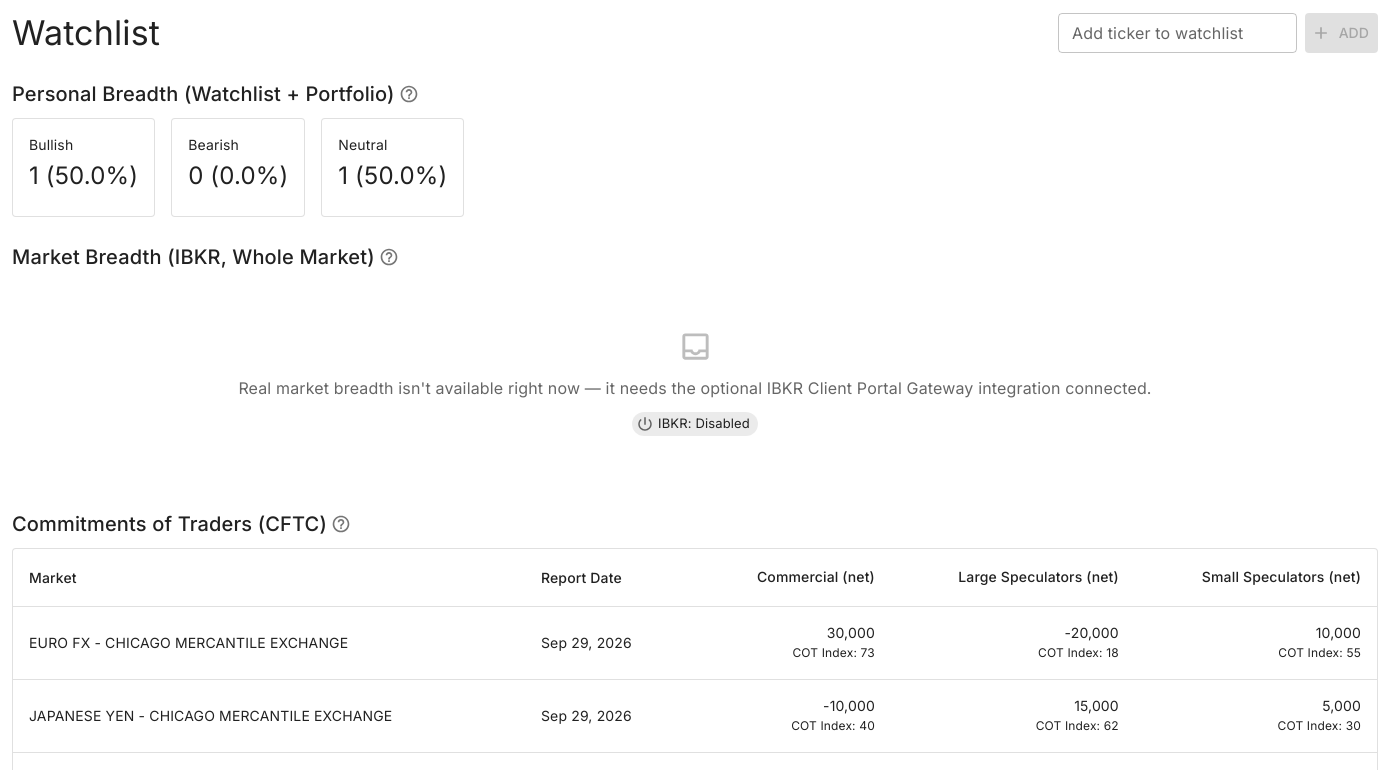
WatchlistPage › clears the skeleton and surfaces the error when the add POST fails, leaving no orphaned skeleton row
The image size is (1390, 770).
Type "TSLA" into the field labelled "Add ticker to watchlist" at (1178,33), box [1058,13,1298,53]
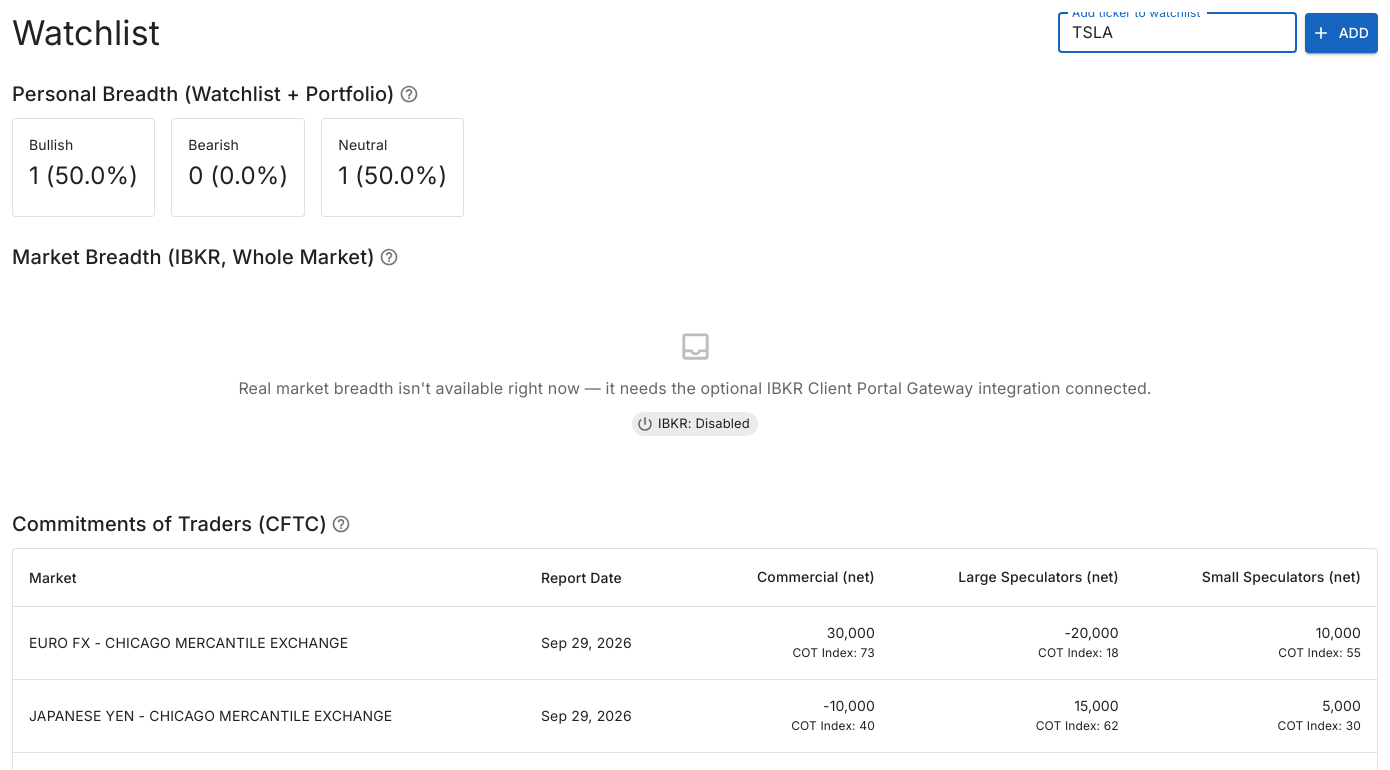
Click the button "Add" at (1342,33), box [1306,13,1378,53]
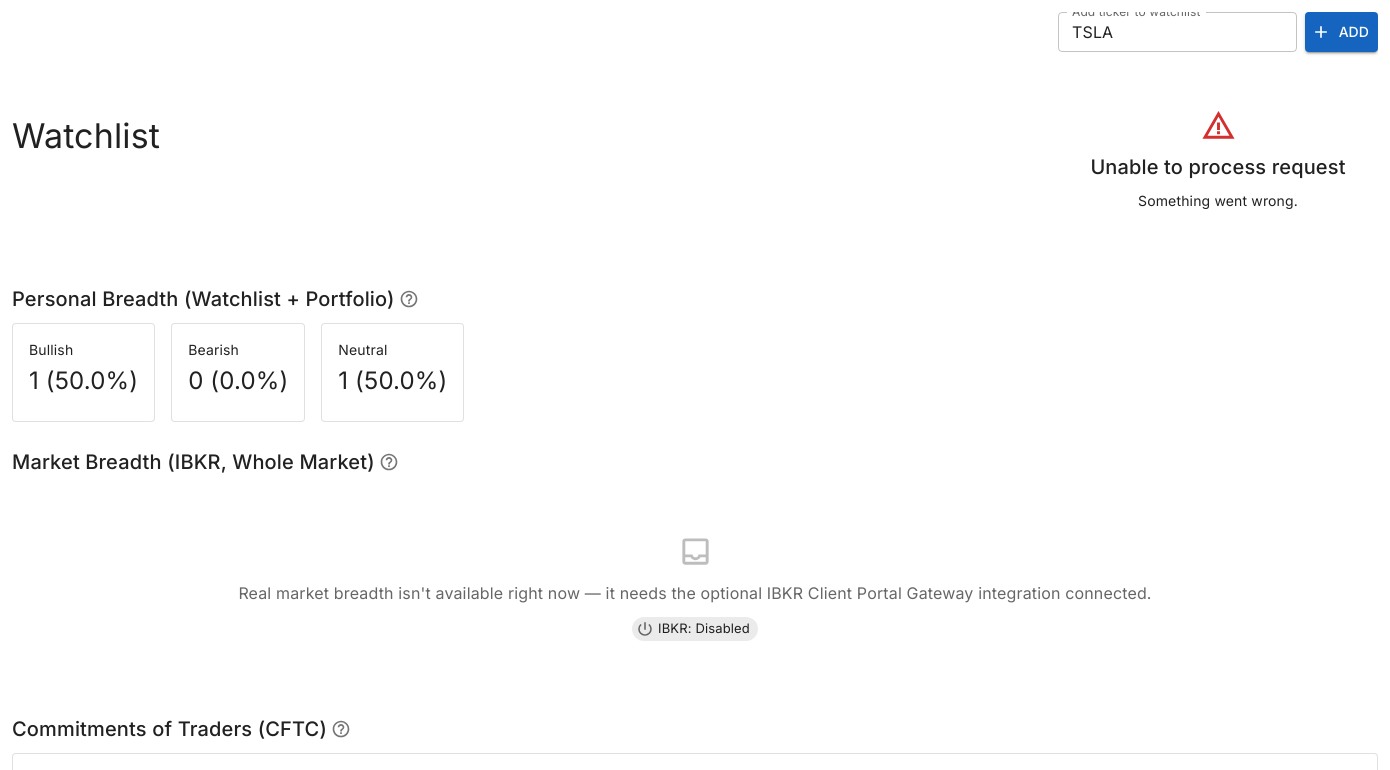
Expected: the message "Unable to process request Something went wrong." is shown, [1090,108,1346,209]
Expected: the text "Something went wrong." is shown, [1138,191,1298,211]
